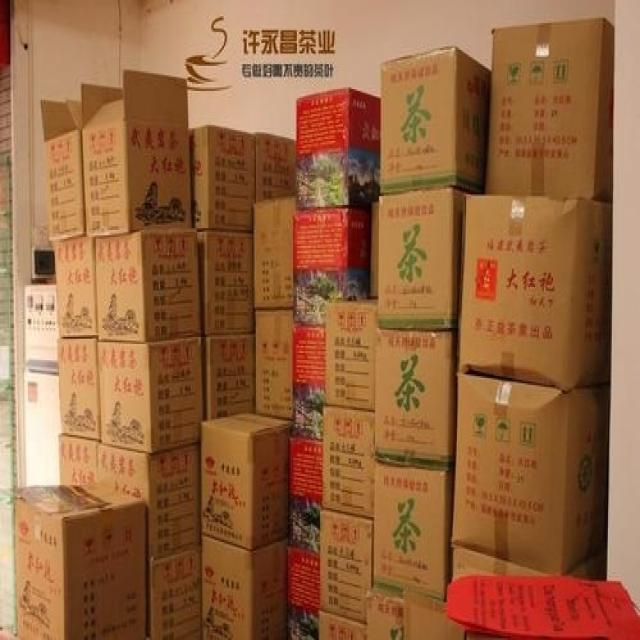box: (458, 194, 613, 390), (452, 374, 600, 572), (483, 16, 616, 203), (13, 487, 146, 640), (81, 73, 193, 237), (380, 48, 490, 196), (201, 414, 296, 551), (378, 189, 463, 332), (97, 446, 200, 560), (372, 333, 456, 472), (100, 341, 202, 455), (96, 232, 200, 342), (372, 462, 452, 603), (294, 89, 380, 209), (293, 210, 372, 328), (201, 537, 289, 640), (191, 127, 255, 232), (40, 100, 84, 241), (317, 513, 372, 624), (323, 408, 374, 517), (200, 232, 253, 335), (325, 303, 375, 410), (150, 551, 202, 640), (56, 341, 100, 442), (255, 200, 294, 308), (52, 242, 96, 337), (256, 312, 294, 421), (289, 440, 325, 554), (293, 328, 328, 444), (206, 337, 253, 421), (287, 551, 320, 640), (402, 592, 463, 640), (256, 134, 297, 201), (365, 590, 404, 640), (59, 439, 97, 488), (319, 613, 366, 640)
